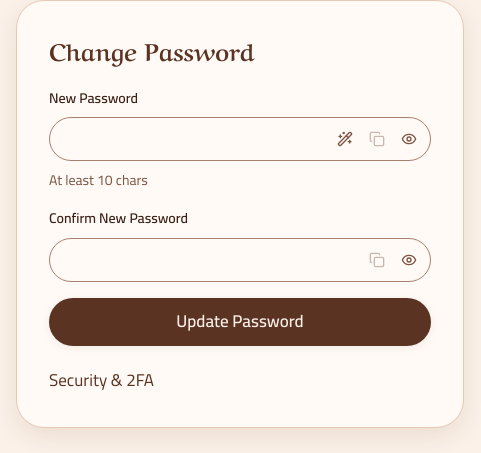
Test: Email recovery destination › updates through Auth, removes password fields and confirms success
Type "New-Secret-81!" into the password field labelled "New Password". click: (240, 139)
box: [49,117,431,161]
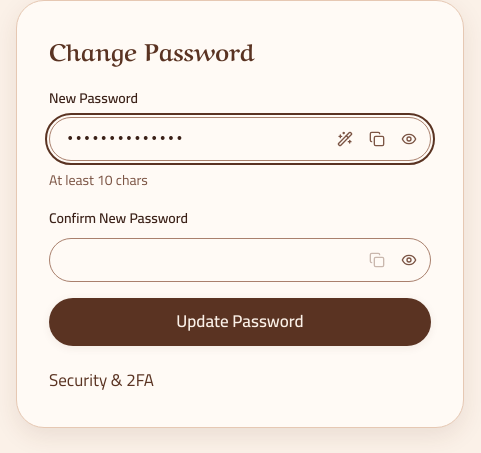
Type "New-Secret-81!" into the password field labelled "Confirm New Password". click: (240, 260)
box: [49,238,431,282]
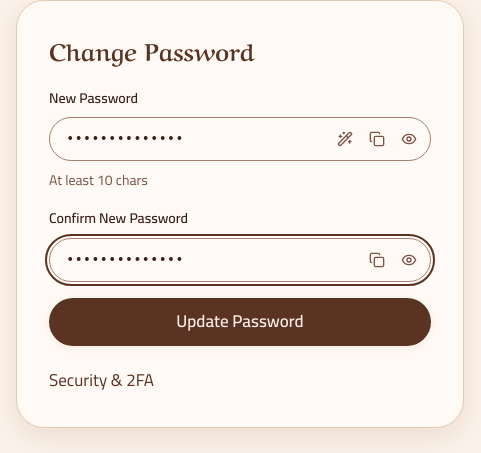
Click the button "Update Password". click: (240, 322)
box: [49,298,431,346]
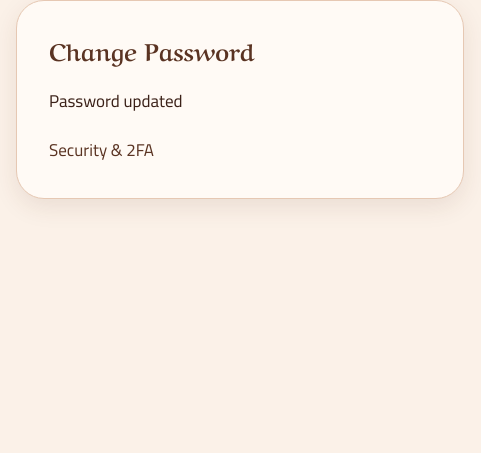
Result: the message reads "Password updated" at [49,85,183,117]
Result: the label labelled "New Password" is gone
